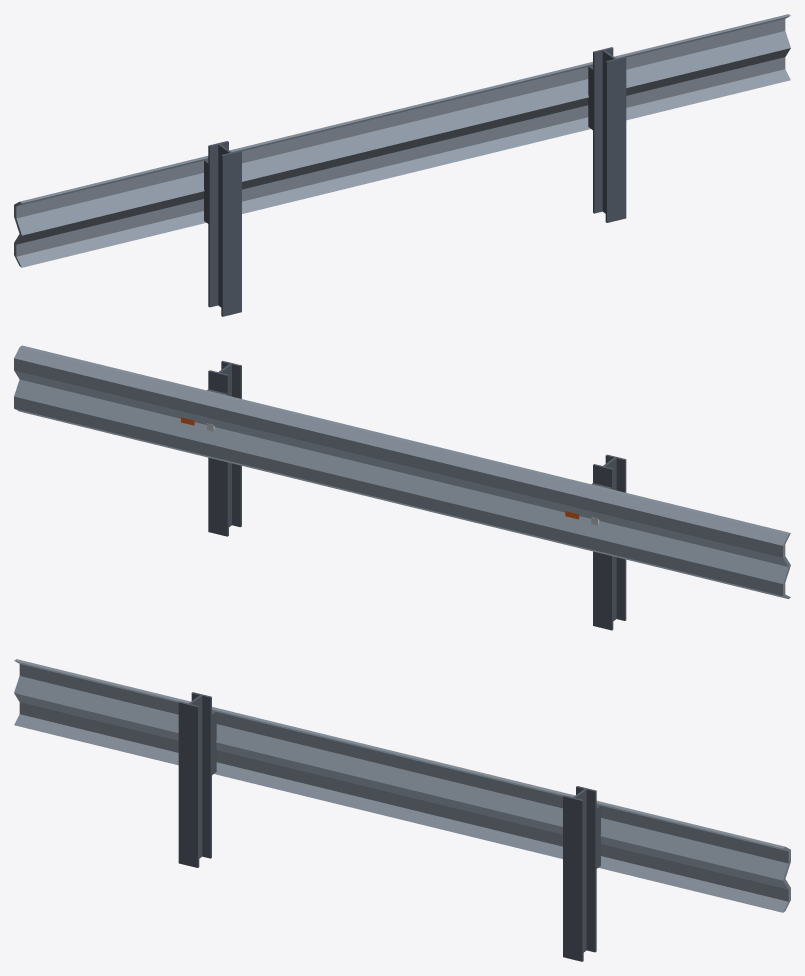
Rendered from guardrail.glb.
3 views of the same model, one above another, from view 1: azimuth 30°, elevation 25°; view 2: azimuth 150°, elevation 25°; view 3: azimuth 330°, elevation 25° (orthographic).
Visible parts, largest first — view 1: guardrail; view 2: guardrail; view 3: guardrail.
Boxes of the visible parts, x1=… form: guardrail: x1=14, y1=14, x2=790, y2=316; guardrail: x1=14, y1=345, x2=790, y2=630; guardrail: x1=14, y1=659, x2=790, y2=961.
Size of the model in its own units: 4 by 0.8 by 0.234.
